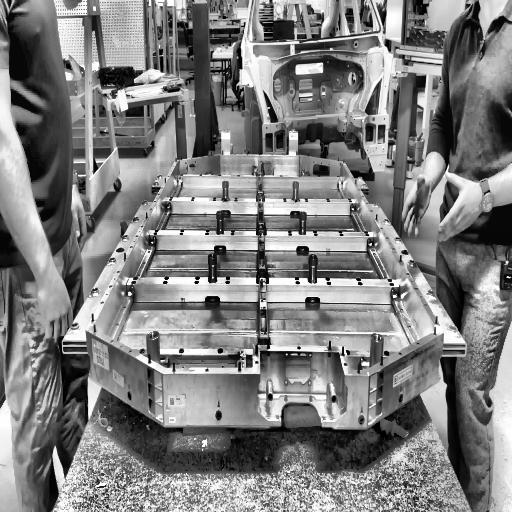b_casing: (60, 153, 467, 378)
